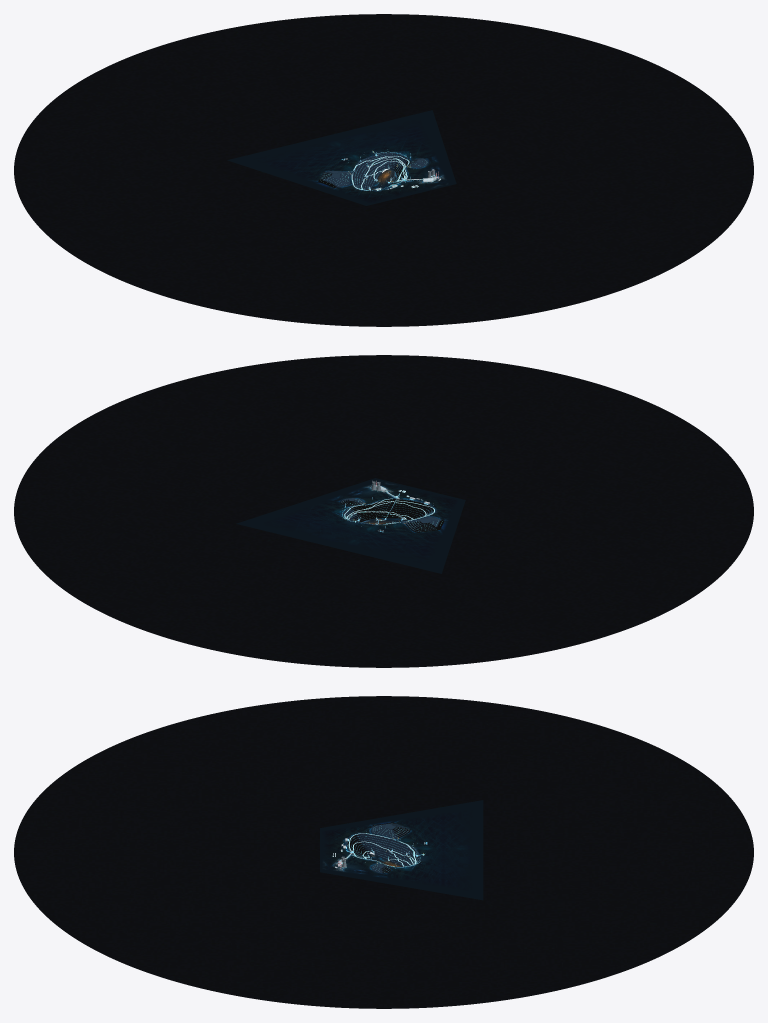
File: pit.glb
The picture shows the model from 3 angles, top to bottom: view 1: azimuth 30°, elevation 25°; view 2: azimuth 150°, elevation 25°; view 3: azimuth 270°, elevation 25°; orthographic projection.
Parts seen in each view (by area): view 1: ground, ground_design, pit_terraces; view 2: ground, ground_design, pit_terraces; view 3: ground, ground_design, pit_terraces.
Boxes of the visible parts, bbox=[...] form: ground: bbox=[14, 14, 753, 326]; ground_design: bbox=[227, 110, 456, 205]; pit_terraces: bbox=[351, 152, 408, 190]; ground: bbox=[14, 355, 753, 667]; ground_design: bbox=[236, 478, 465, 573]; pit_terraces: bbox=[342, 498, 435, 525]; ground: bbox=[14, 696, 753, 1008]; ground_design: bbox=[320, 800, 483, 900]; pit_terraces: bbox=[346, 833, 419, 866].
Size of the model in its own units: 18000 by 602 by 18000.
Materials: 24 (5 with a texture image).
